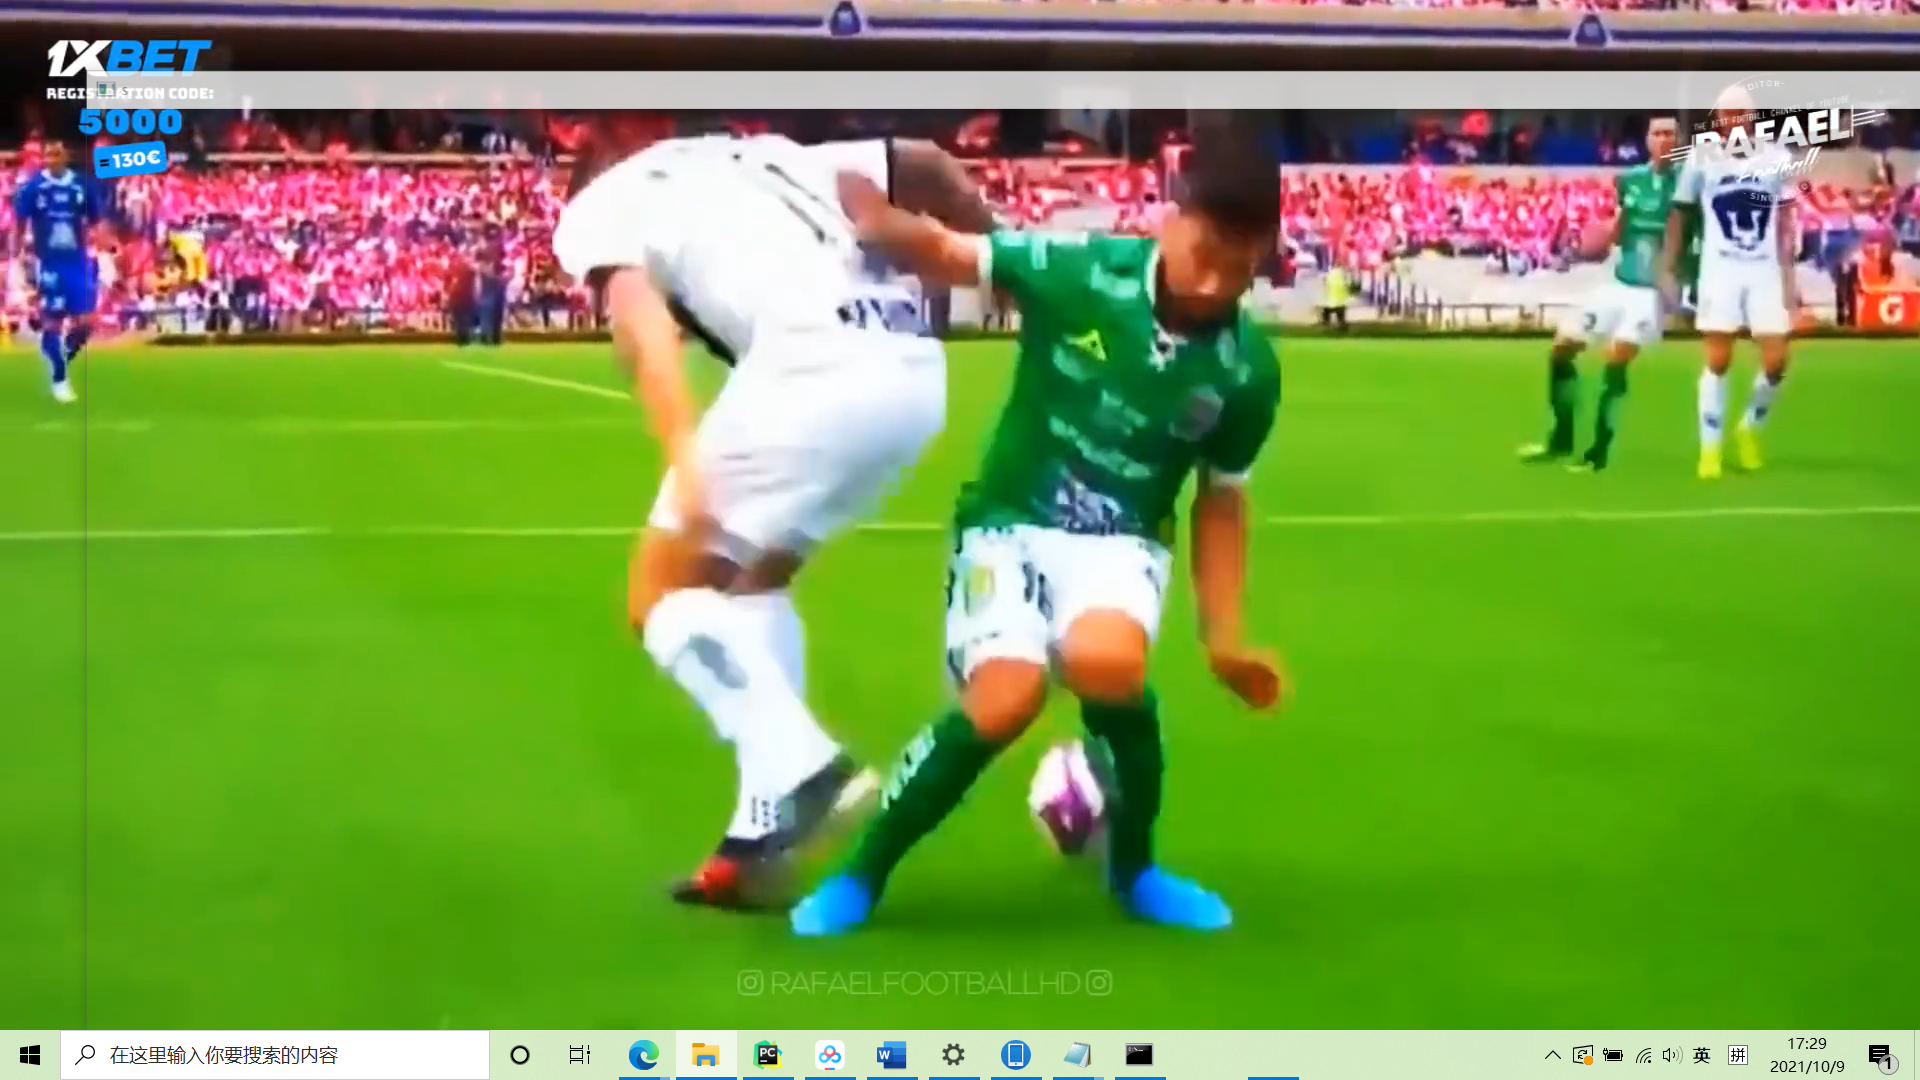ft: (1027, 735, 1137, 857)
